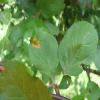Apple Scab Leaf: (29, 27, 61, 79)
